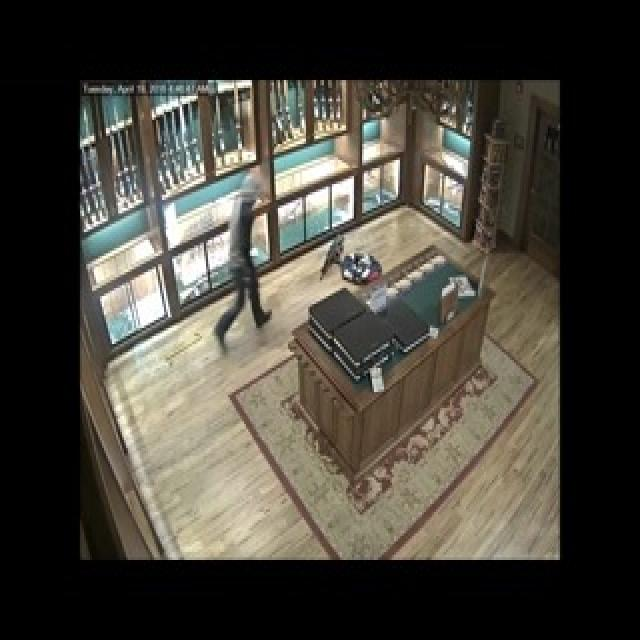thief: (215, 166, 271, 349)
